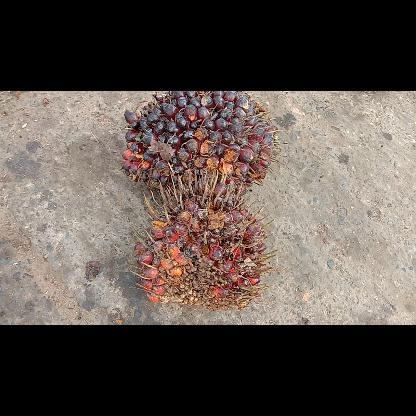Kurang masak: (121, 90, 281, 206)
TBS masak: (130, 169, 276, 310)
